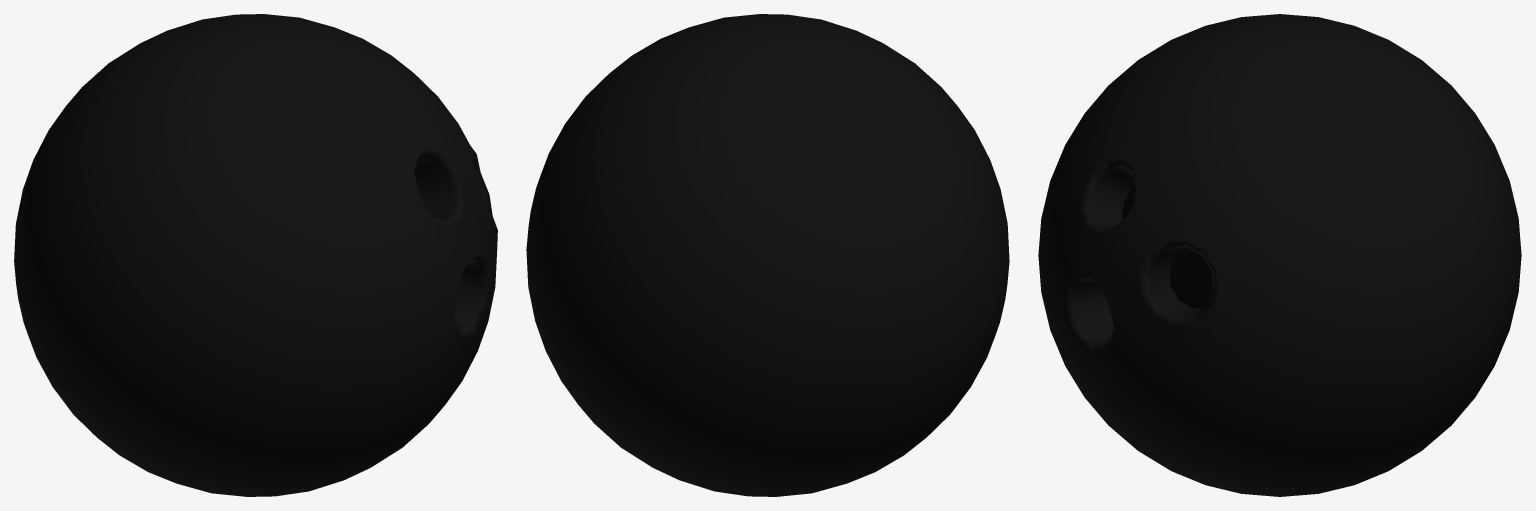
File: bowlingBall.fbx
The picture shows the model from 3 angles, left to right: view 1: azimuth 30°, elevation 25°; view 2: azimuth 150°, elevation 25°; view 3: azimuth 270°, elevation 25°; orthographic projection.
Visible parts, largest first — view 1: ballBowling; view 2: ballBowling; view 3: ballBowling.
Boxes of the visible parts, x1=… form: ballBowling: x1=14, y1=14, x2=497, y2=496; ballBowling: x1=526, y1=14, x2=1009, y2=496; ballBowling: x1=1038, y1=14, x2=1521, y2=496.
Bounding box in the file's own units: 0.9999 × 0.9999 × 0.9999.
Materials: 1 (1 with a texture image).
